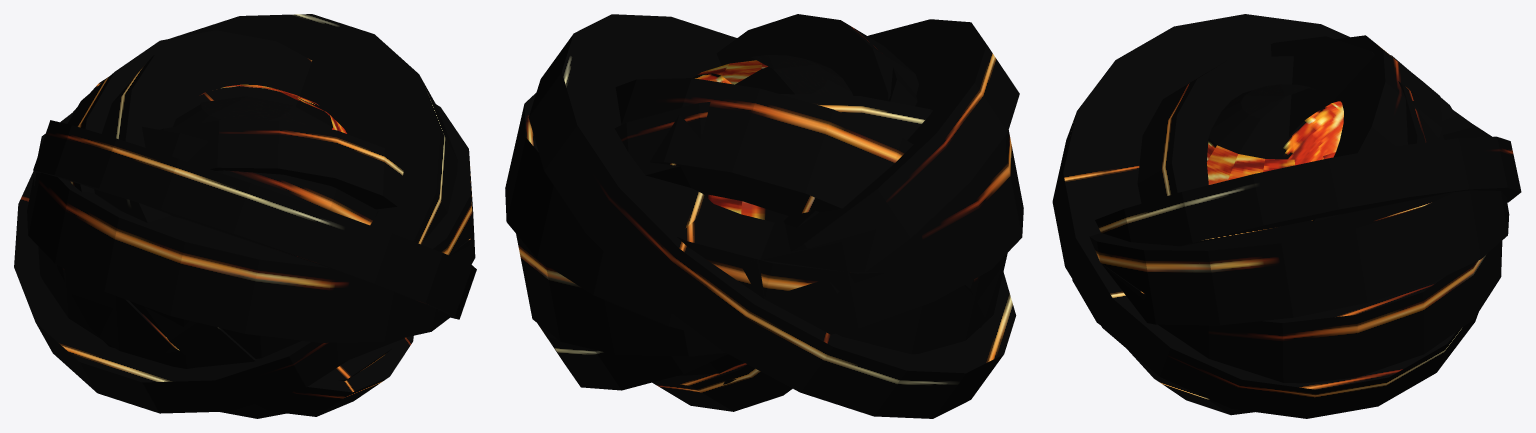
The model's file is frame_087.obj.
3 views of the same model, side by side, from view 1: azimuth 30°, elevation 25°; view 2: azimuth 150°, elevation 25°; view 3: azimuth 270°, elevation 25° (orthographic). The views are drawn at different scales.
Parts seen in each view (by area): view 1: cylinder, sphere; view 2: cylinder, sphere; view 3: cylinder, sphere.
Part boxes in pixels (x1,y1,x2,y2): cylinder: (14,14,476,418); sphere: (173,84,346,133); cylinder: (505,14,1023,418); sphere: (693,55,853,222); cylinder: (1052,14,1521,418); sphere: (1207,84,1343,184).
Bounding box in the file's own units: 1.06 × 0.8038 × 1.12.
5 materials, 5 textured.
